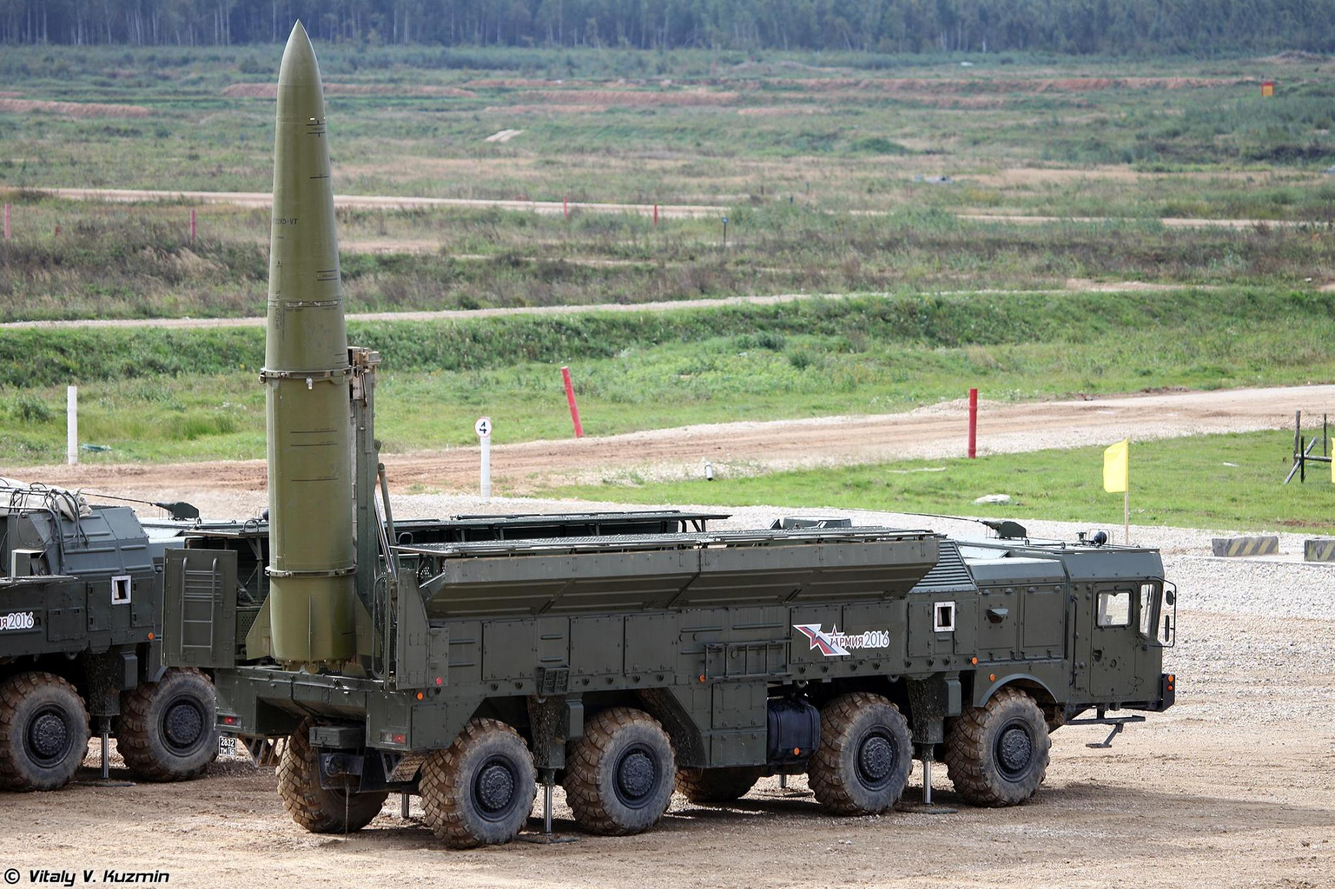rszo: (169, 508, 1196, 856), (0, 479, 225, 786)
